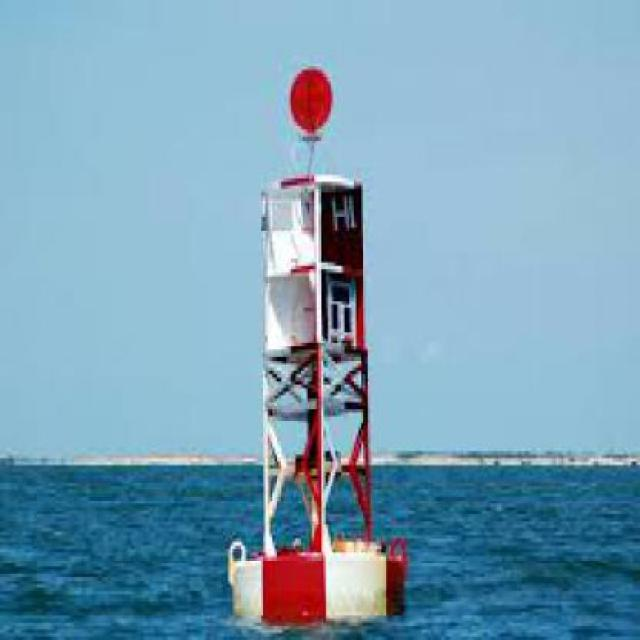buoy: (224, 53, 423, 635)
